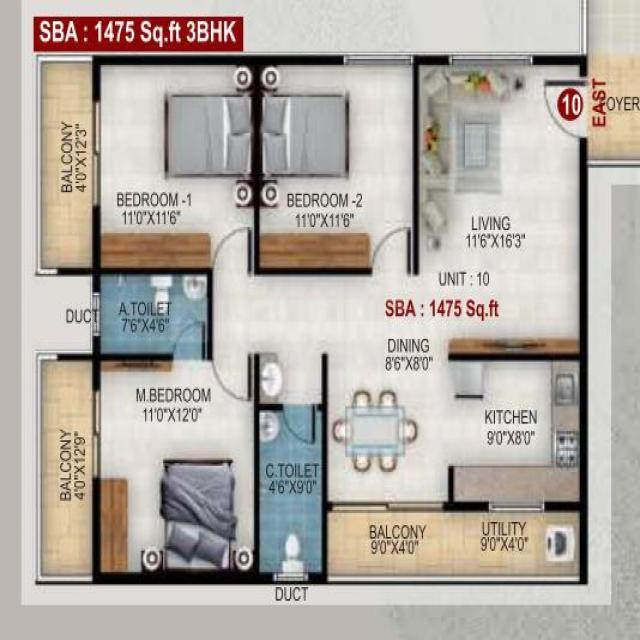Balcony-Sitout: (35, 351, 101, 586), (32, 56, 98, 278)
Bedroom: (91, 52, 257, 276), (253, 53, 419, 277)
Bedroom with Toilet: (94, 356, 324, 582)
Dining: (332, 384, 419, 474)
Enterance-Foyer: (540, 75, 640, 145)
Kitchen: (450, 354, 585, 509)
Living: (412, 55, 589, 356)
Toilet: (258, 403, 326, 583), (95, 268, 213, 356)
Utility: (317, 504, 589, 581)
